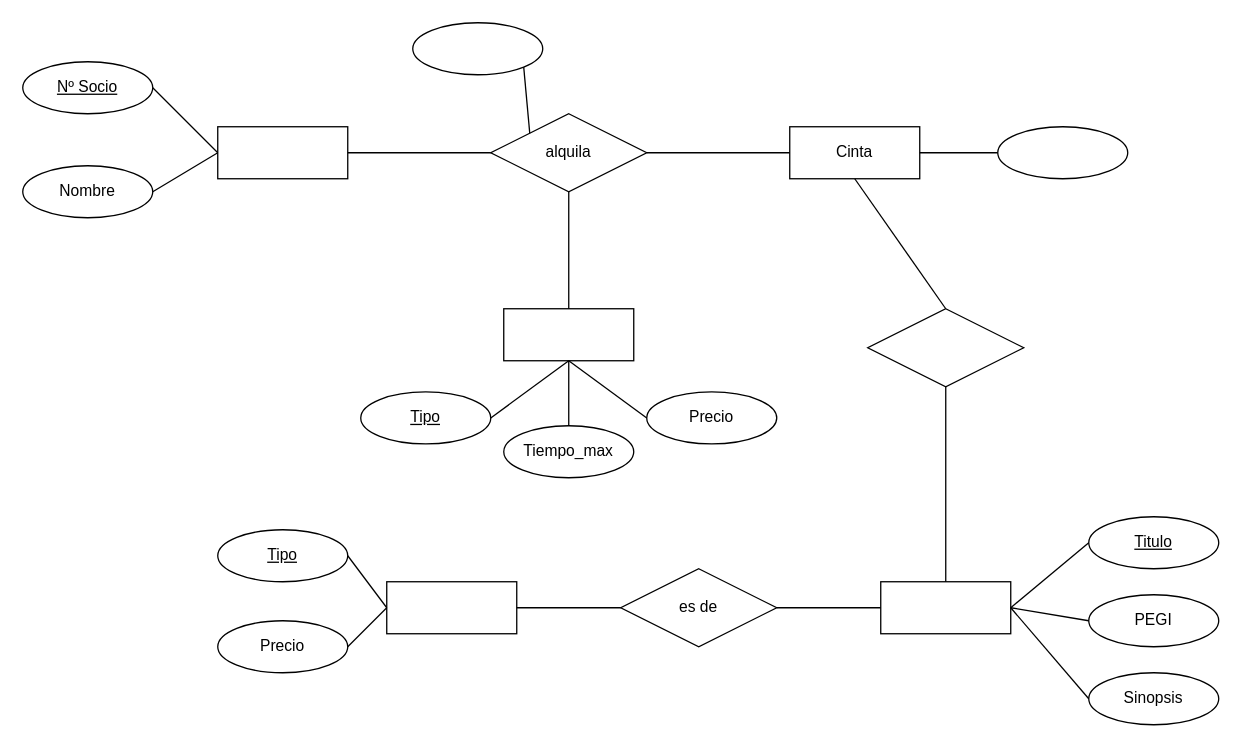
Some shapes in this 1242 by 748 pixel diagram are drawn without their labels. The centre of each missing label's shape, as x and y in pixels:
Código: the point at 1062,152
Fecha: the point at 477,48
Pelicula: the point at 945,607
tiene: the point at 945,347
Tipo_pelicula: the point at 451,607
Tipo_prestamo: the point at 568,334
Usuario: the point at 282,152
